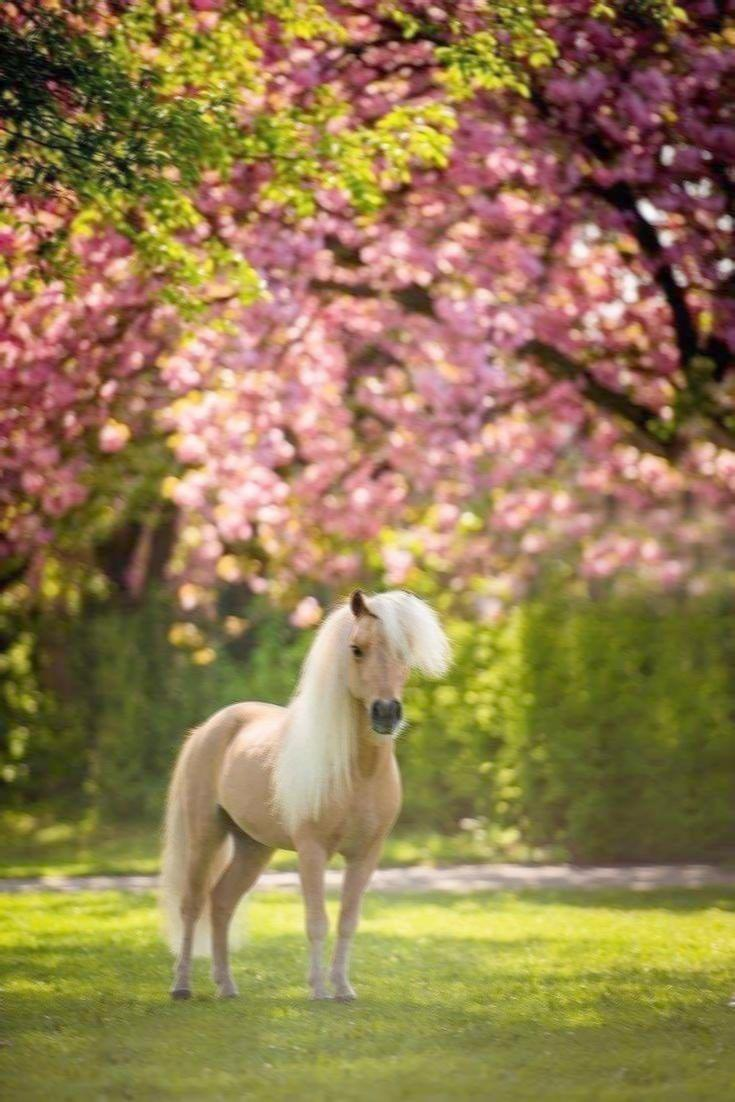horse: (156, 586, 454, 1004)
